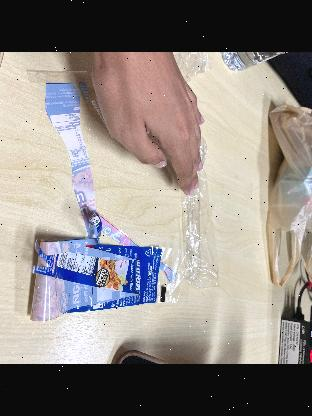Others: (16, 216, 180, 324), (173, 134, 231, 298)
